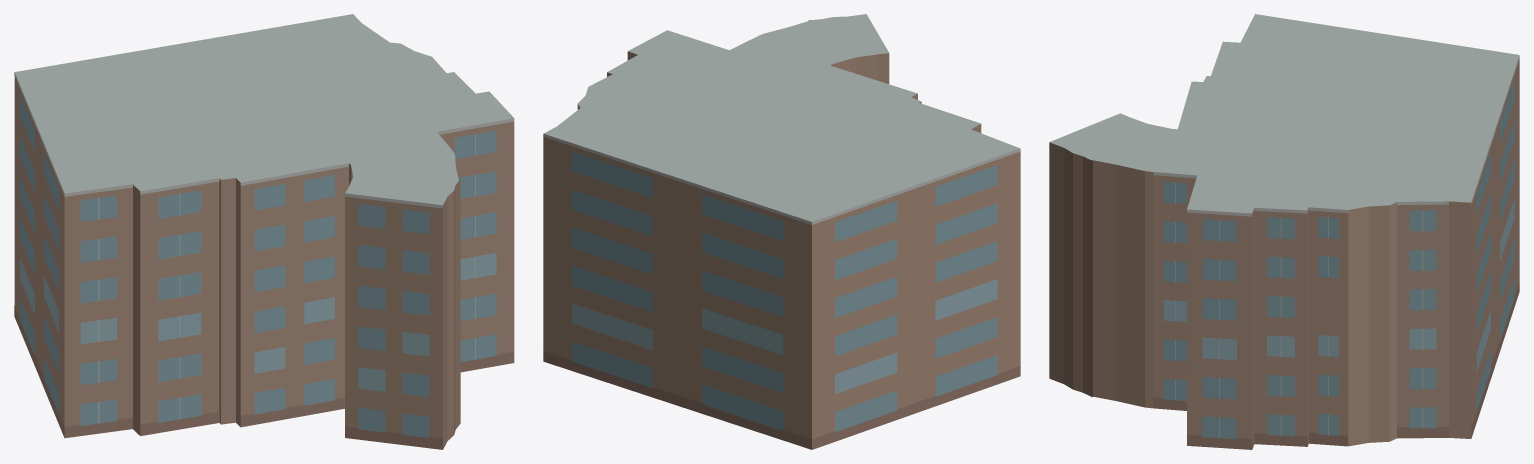
The model's file is survey-upis-32966373.glb.
3 renders of one model, left to right at view 1: azimuth 30°, elevation 25°; view 2: azimuth 150°, elevation 25°; view 3: azimuth 270°, elevation 25°, orthographic. The views are drawn at different scales.
Visible parts, largest first — view 1: survey-upis-32966373.tmp; view 2: survey-upis-32966373.tmp; view 3: survey-upis-32966373.tmp.
Boxes of the visible parts, left/top/right/bottom form: survey-upis-32966373.tmp: left=14, top=14, right=514, bottom=449; survey-upis-32966373.tmp: left=543, top=14, right=1020, bottom=449; survey-upis-32966373.tmp: left=1049, top=14, right=1519, bottom=449.
Size of the model in its own units: 32.83 by 18.13 by 32.71.
